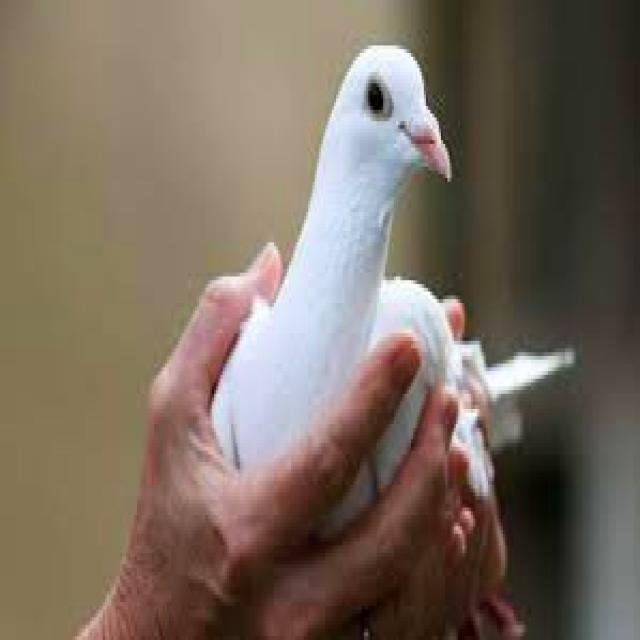pigeon: (212, 45, 574, 534)
